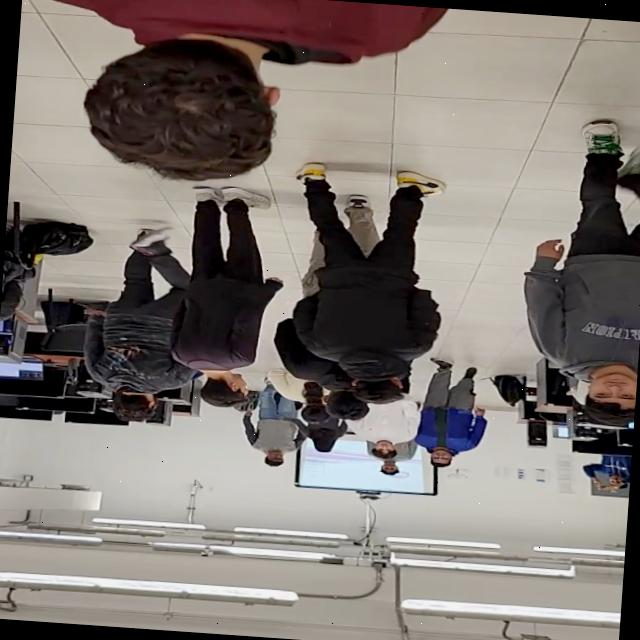Persona: (10, 0, 411, 196), (271, 156, 446, 406), (511, 118, 640, 420), (71, 207, 200, 423), (175, 182, 292, 412), (416, 352, 492, 472), (571, 427, 633, 501), (239, 396, 298, 468), (358, 406, 408, 457), (289, 415, 348, 454), (358, 454, 412, 477)
